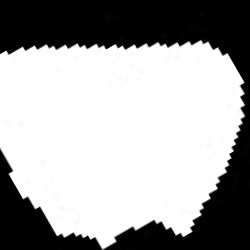spot: (1, 40, 246, 248)
